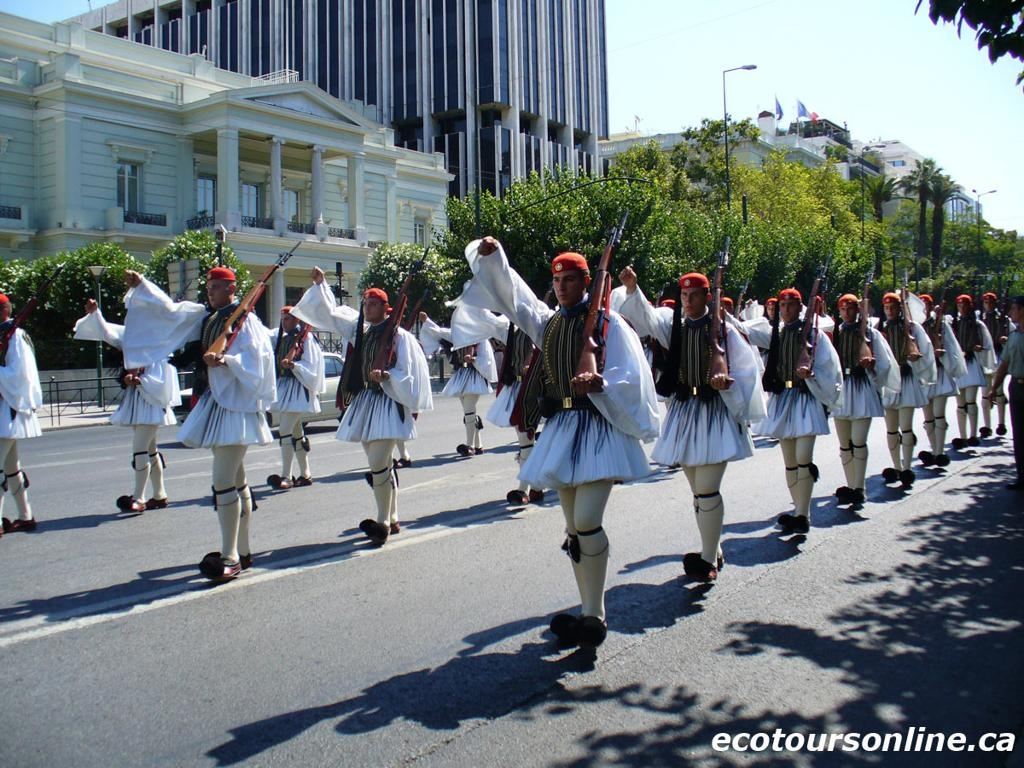human_face: (552, 270, 584, 302), (680, 288, 706, 314), (778, 296, 800, 322), (206, 278, 226, 306), (362, 296, 382, 320), (280, 310, 296, 330), (840, 302, 856, 322), (882, 301, 898, 319), (917, 300, 929, 314), (766, 303, 776, 317), (958, 300, 968, 314), (984, 297, 994, 311)
